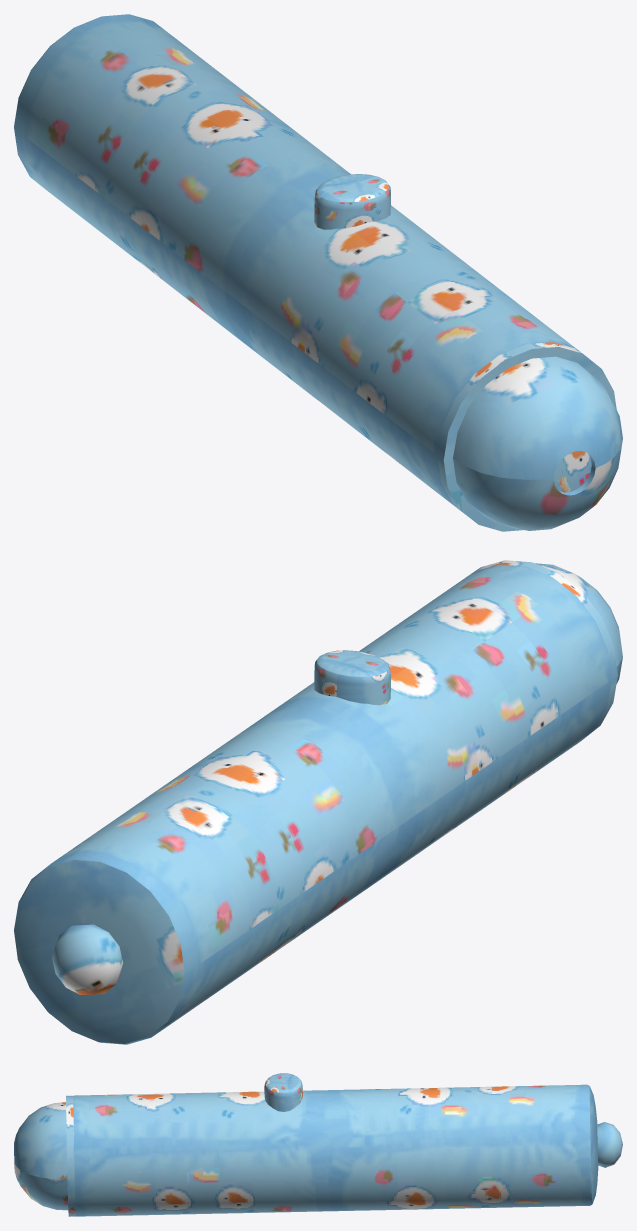
Rendered from ref_gtlaserpen.fbx.
3 renders of one model, top to bottom at view 1: azimuth 30°, elevation 25°; view 2: azimuth 150°, elevation 25°; view 3: azimuth 270°, elevation 25°, orthographic. The views are drawn at different scales.
Visible parts, largest first — view 1: ref_gtlaserpen; view 2: ref_gtlaserpen; view 3: ref_gtlaserpen.
Part boxes in pixels (<box>): ref_gtlaserpen: <box>14,14,622,531</box>; ref_gtlaserpen: <box>14,560,622,1044</box>; ref_gtlaserpen: <box>14,1073,622,1216</box>.
Bounding box in the file's own units: 20.05 × 23.57 × 100.
